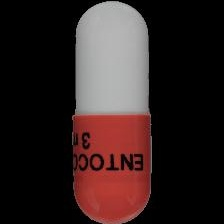49884-501: (0, 0, 224, 224)
